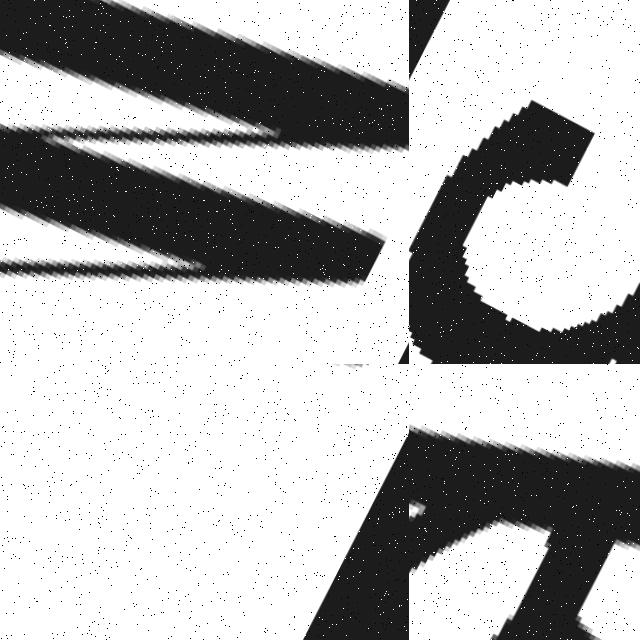3: (409, 56, 640, 364)
K: (409, 364, 640, 640)
R: (0, 364, 409, 640)
W: (0, 0, 409, 364)
